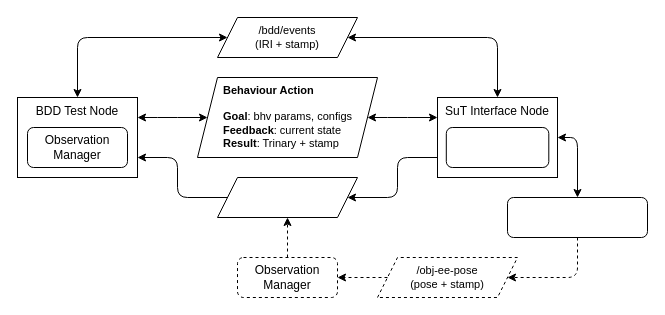
Some shapes in this 665 by 315 pixel diagram are drawn without their labels. Each missing label, with the centre of its shape:
/is-held-trinary (Trinary + stamp): the point at 287,197
Simulation/Real World: the point at 577,217
SuT: FSM, BT: the point at 497,147
